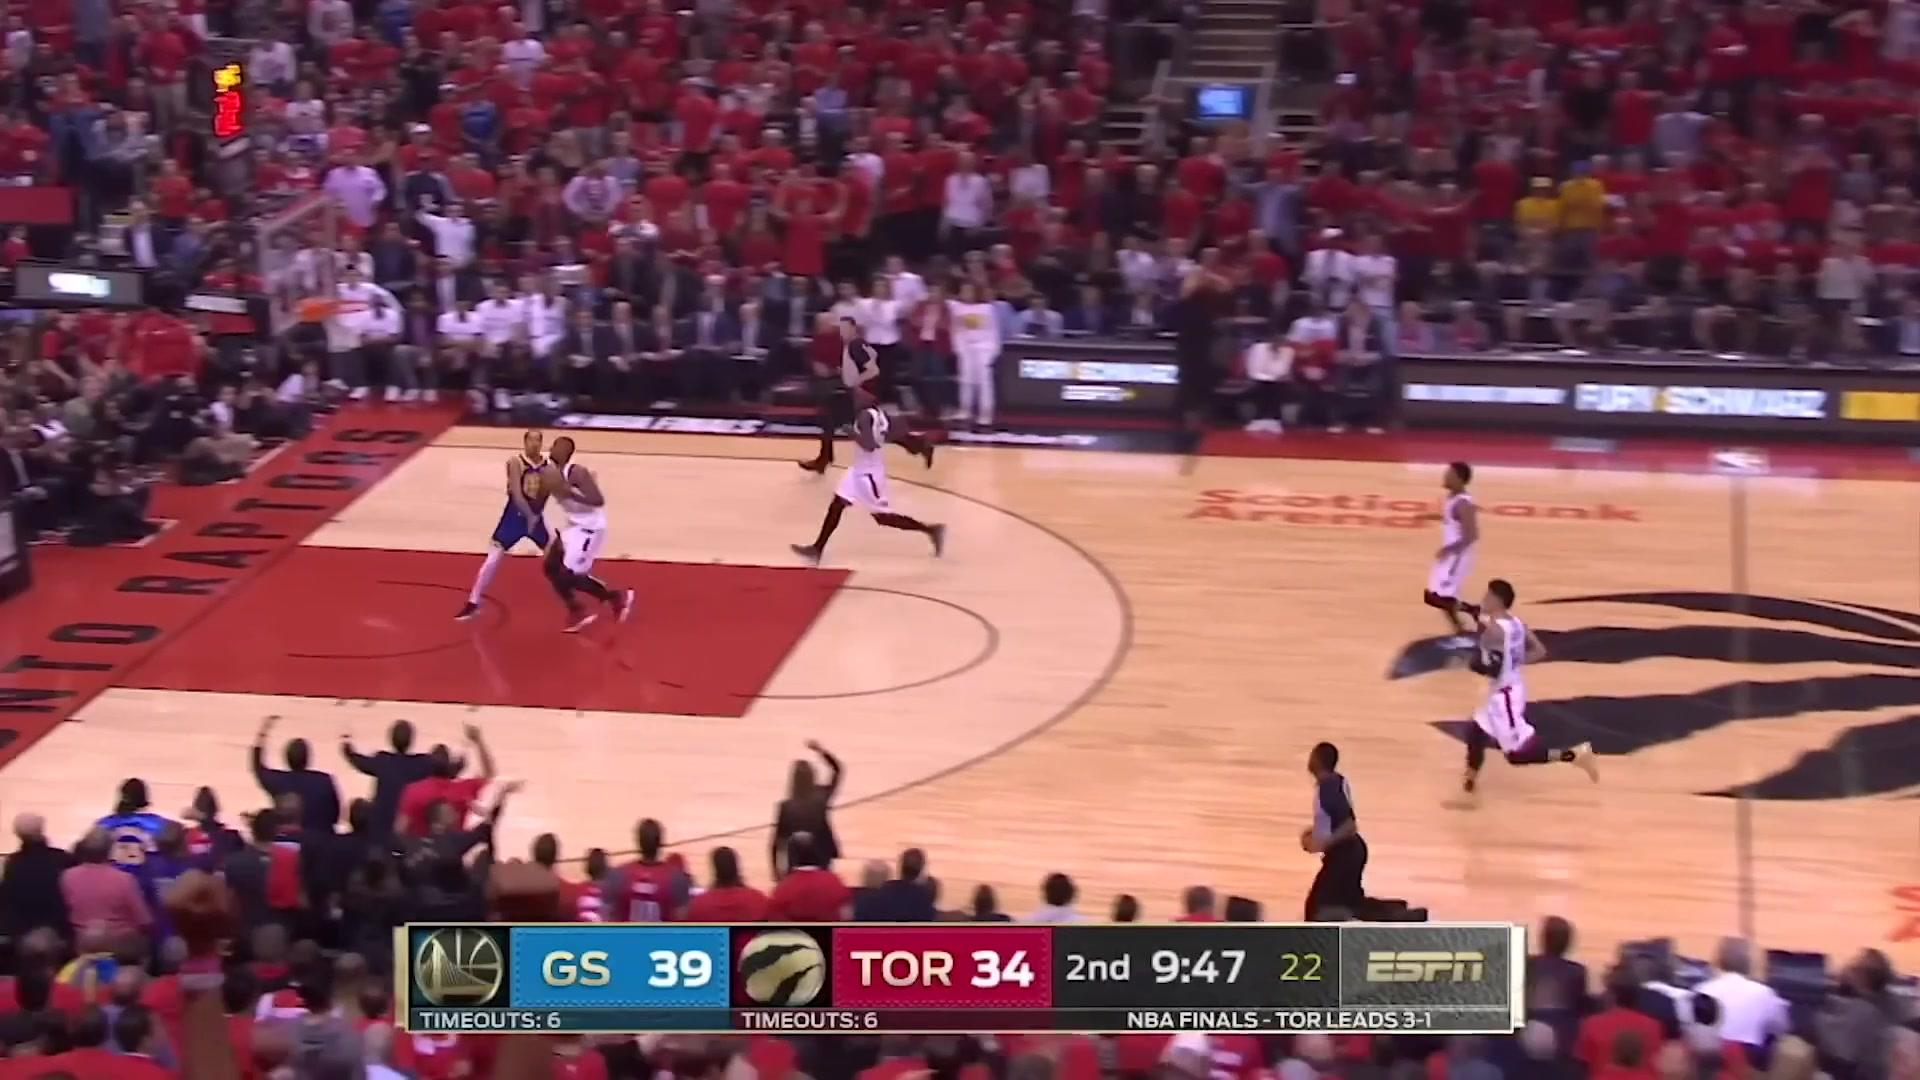foul: (460, 422, 658, 658)
